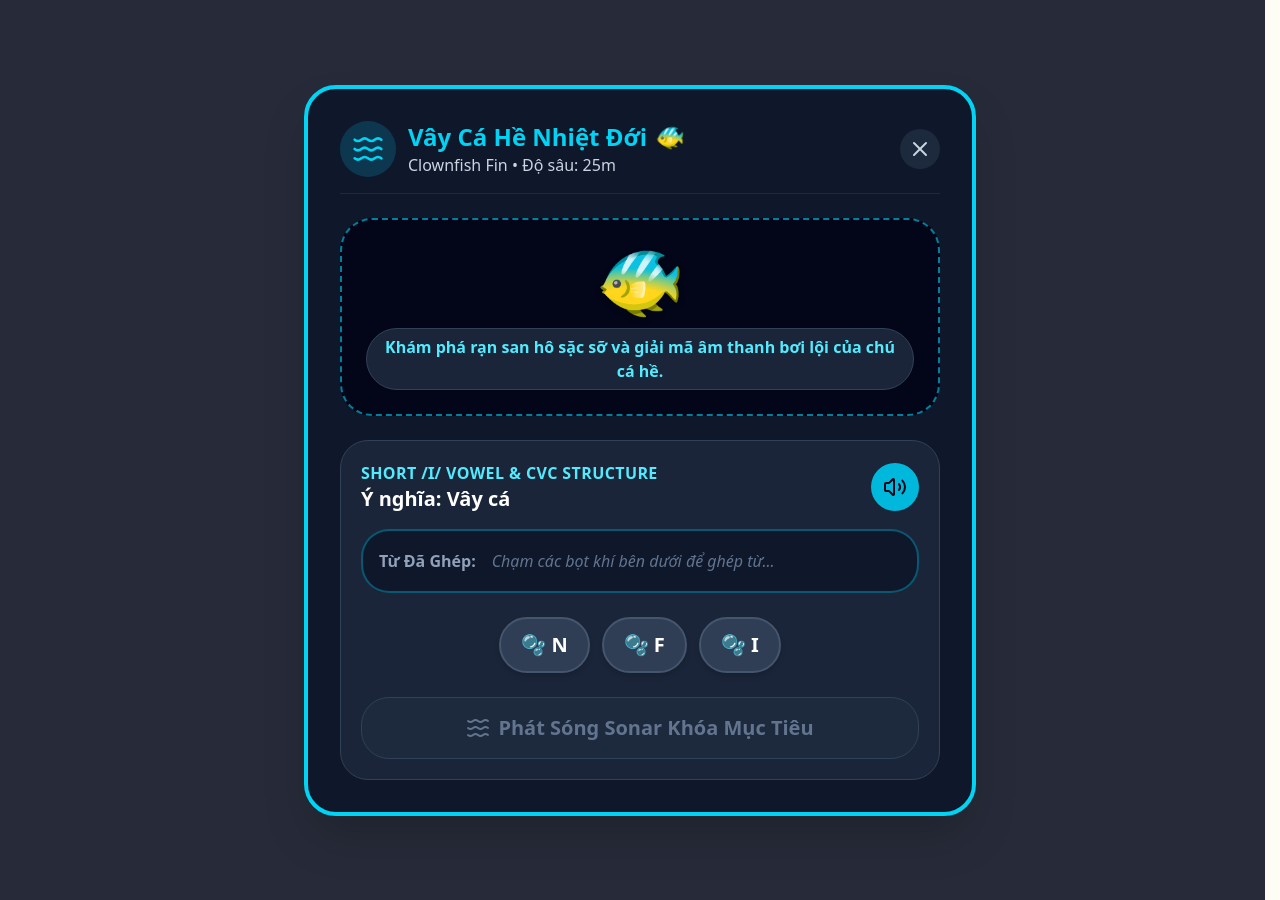
Phonics Ocean Explorer UI Components › SubmarineSonarModal › handles incorrect word assembly with kick sound and reset
Click the button "🫧 N". click: (544, 644)
box: [499,616,590,672]
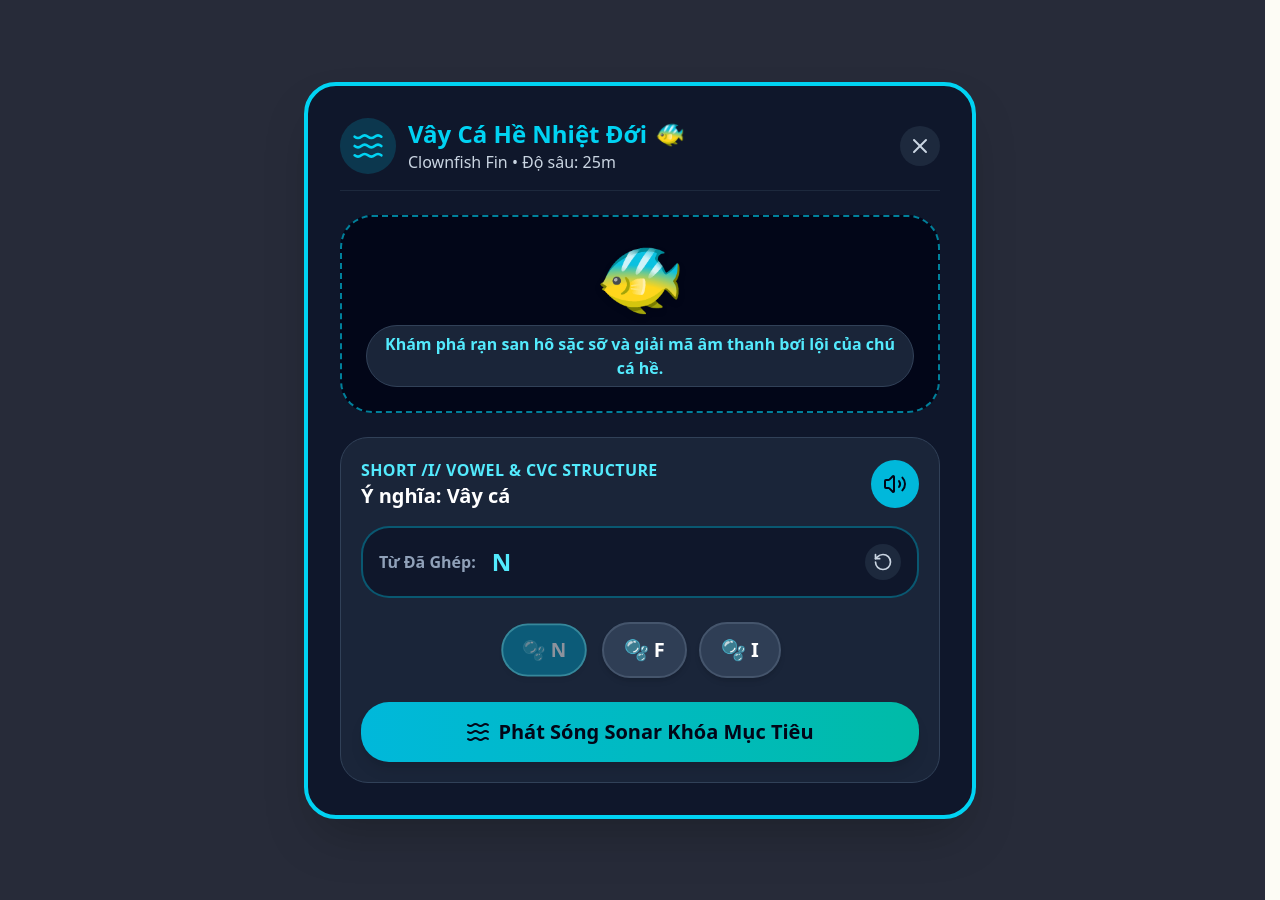
Click the button "🫧 F". click: (644, 650)
box: [602,622,687,678]
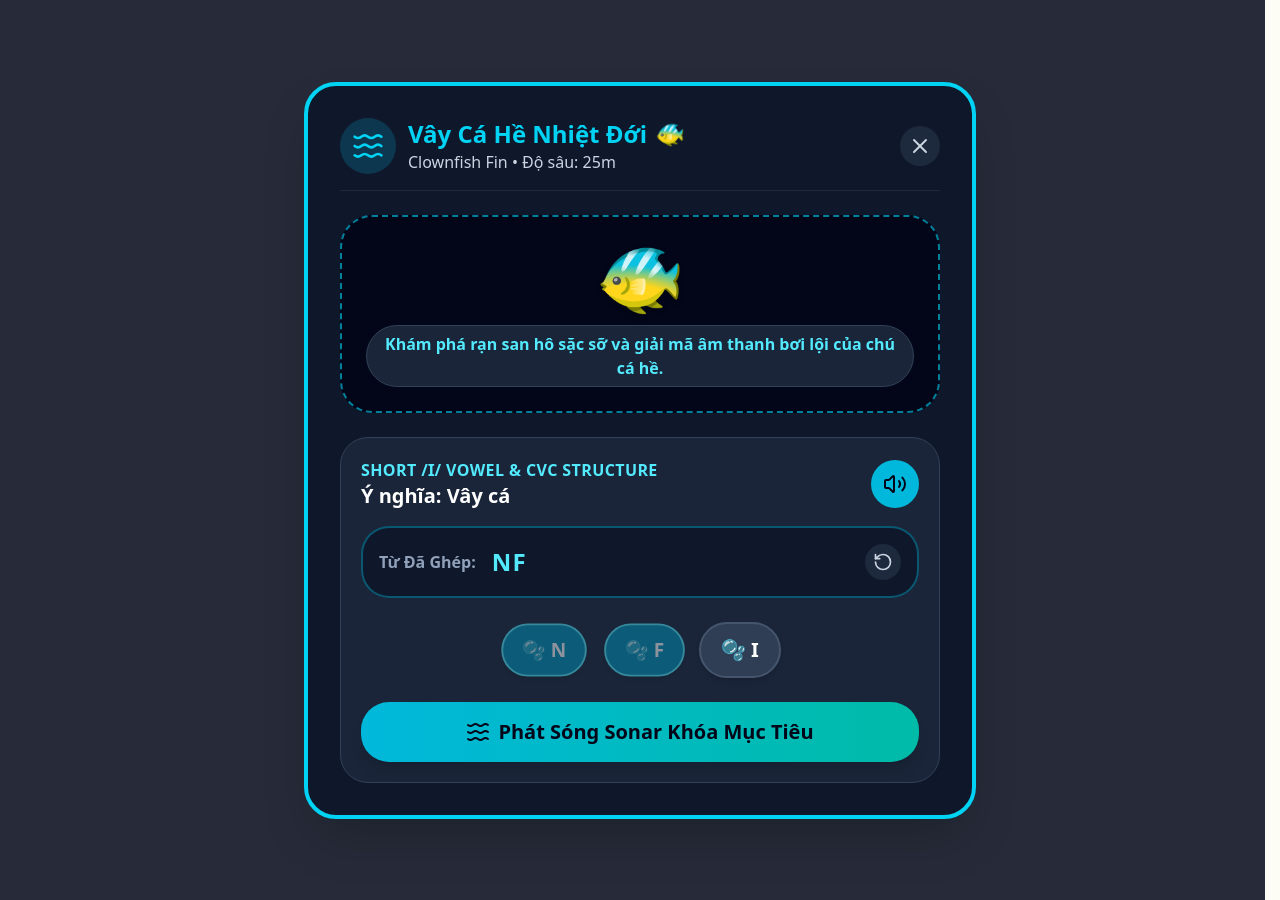
Click the button "Phát Sóng Sonar Khóa Mục Tiêu". click: (640, 732)
box: [361,702,919,762]
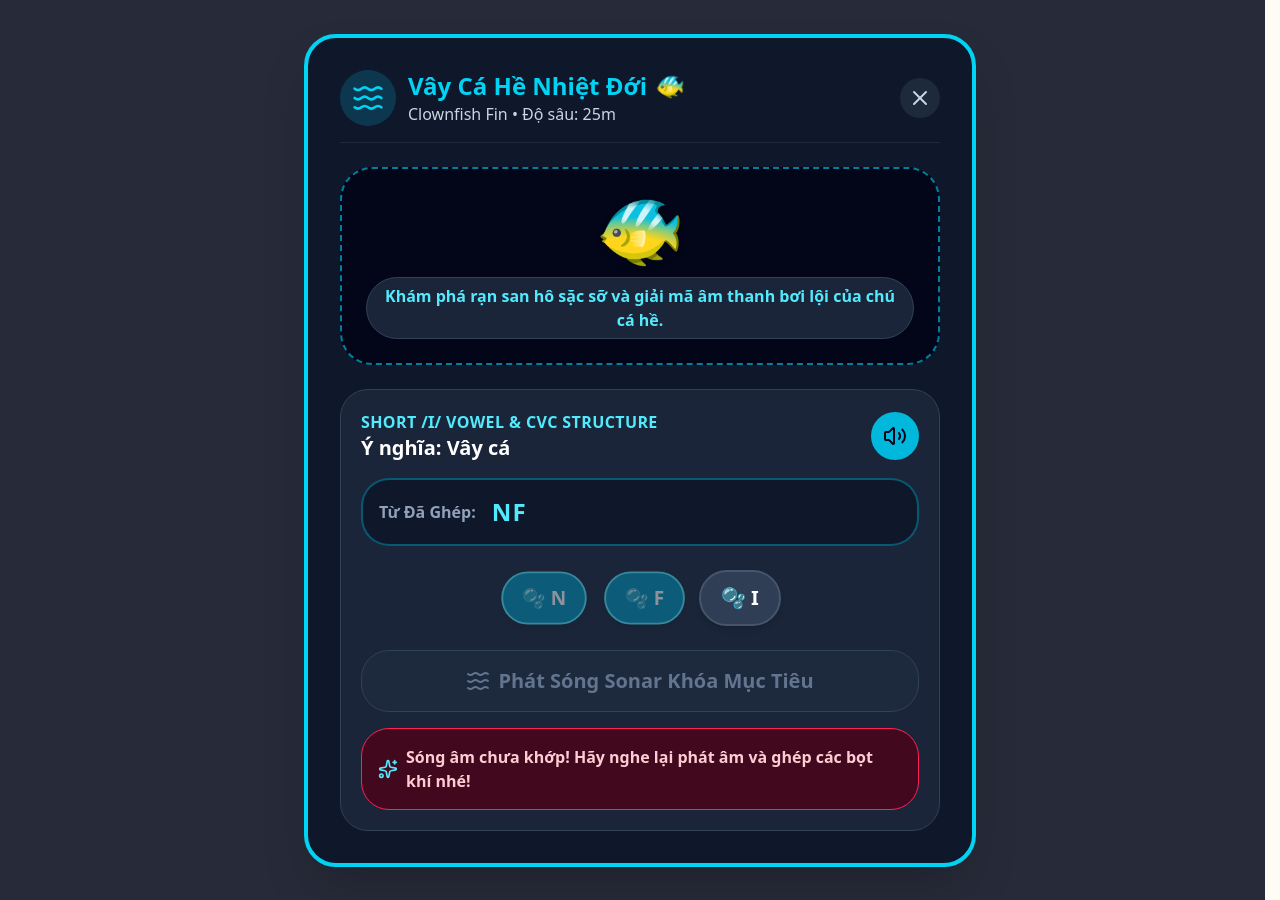
expect the text "Sóng âm chưa khớp!" is shown: met, box [406,746,873,792]
